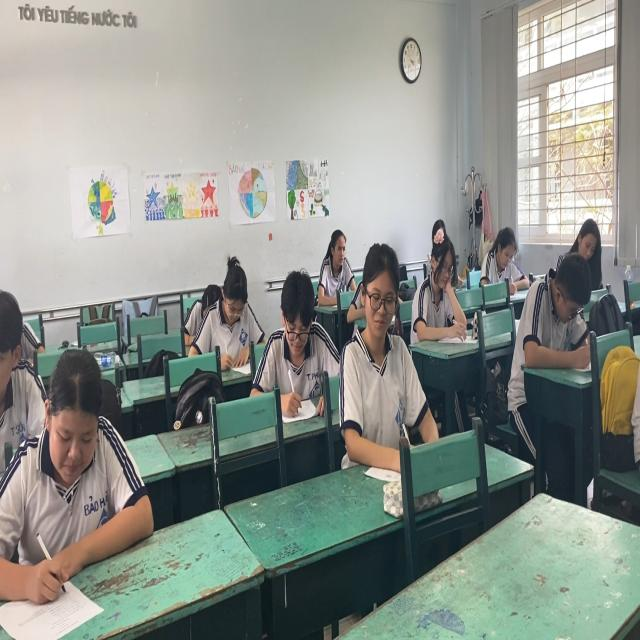not_cheating: (8, 335, 152, 570), (348, 237, 424, 432), (520, 247, 602, 379), (264, 273, 342, 386), (196, 254, 268, 356), (415, 214, 470, 333), (482, 223, 528, 290), (316, 224, 356, 294), (570, 214, 604, 264)
